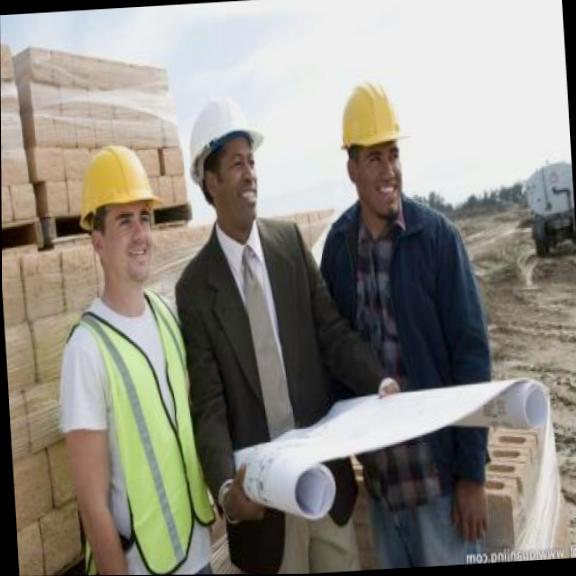no_safety_vest: (178, 212, 339, 470), (306, 202, 480, 407)
safety_vest: (63, 287, 199, 500)
